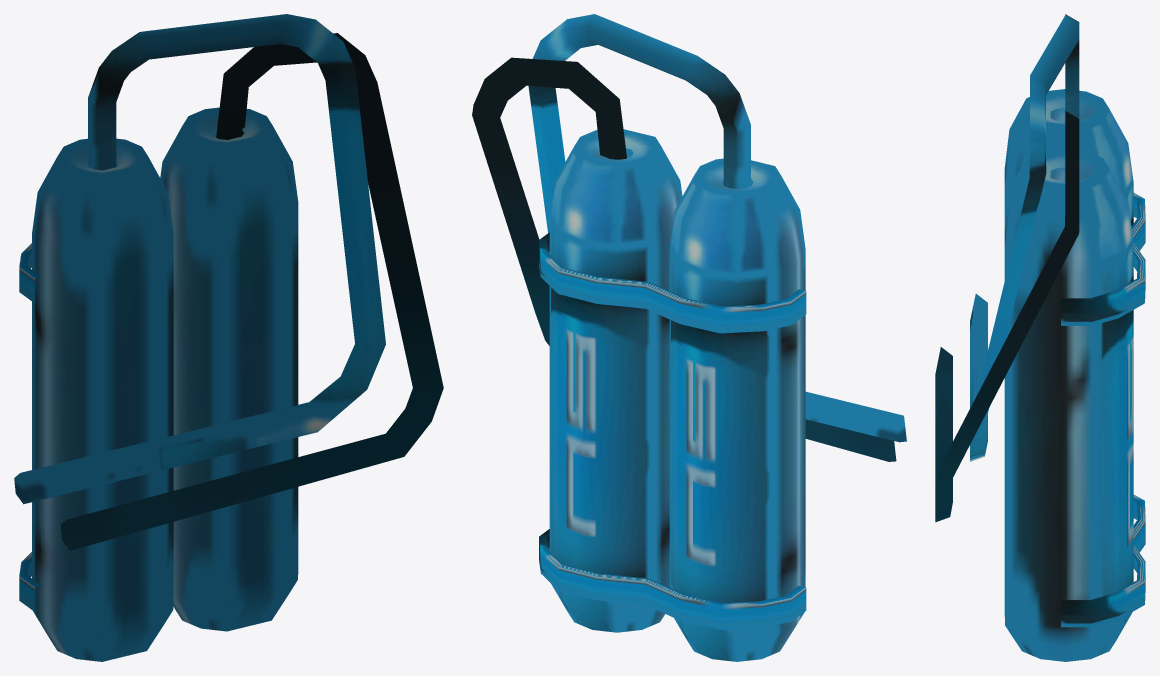
File: drag.ico.obj
The picture shows the model from 3 angles, left to right: view 1: azimuth 30°, elevation 25°; view 2: azimuth 150°, elevation 25°; view 3: azimuth 270°, elevation 25°; orthographic projection. The views are drawn at different scales.
Bounding box in the file's own units: 3.42 × 5 × 1.58.
Materials: 1 (1 with a texture image).
